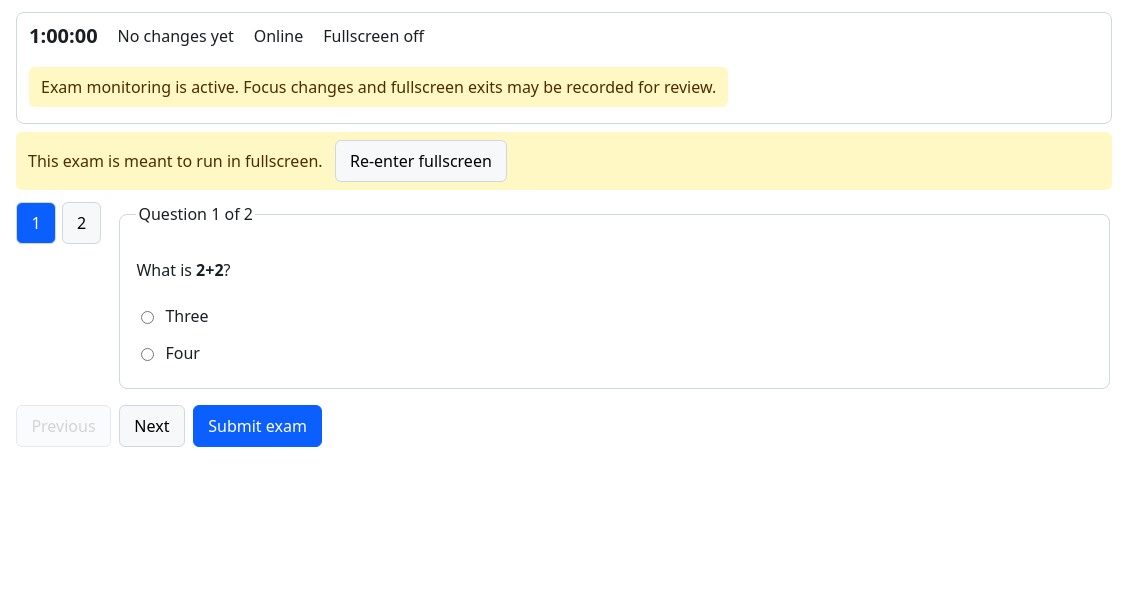
Test: B-17 web exam shell › question prompt HTML is escaped (rendered as text) and **bold** is safe markdown
Expected: the text "2+2" is shown, [196,259,224,281]
Step 1. Click the button "Next" → [152, 426], box [119,405,185,447]
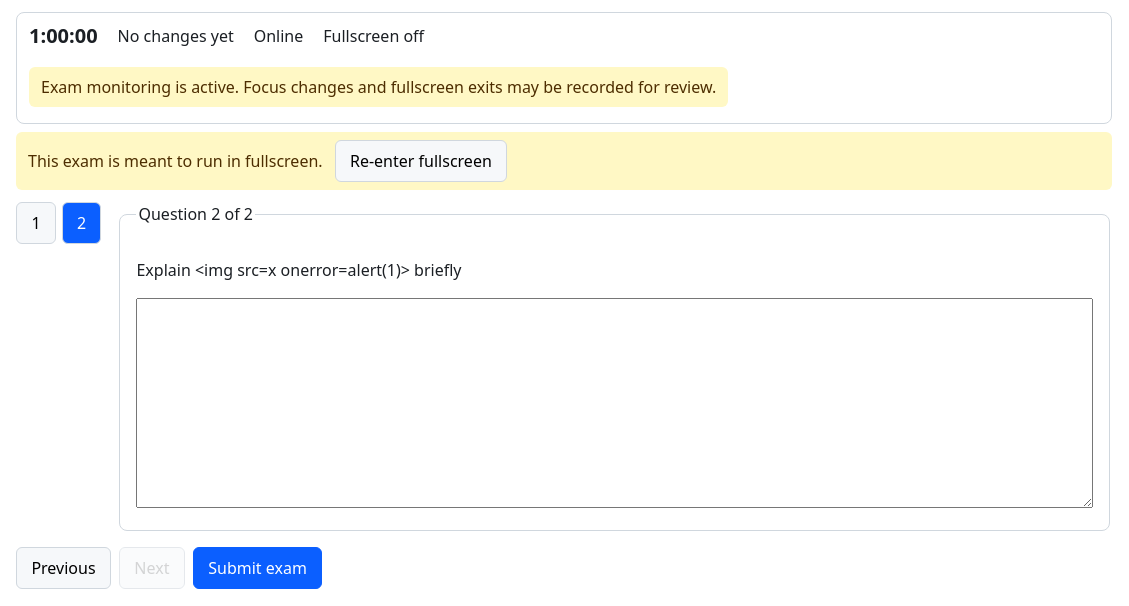
Expected: the text "Explain <img src=x onerror=alert(1)> briefly" is shown, [136,259,462,281]
